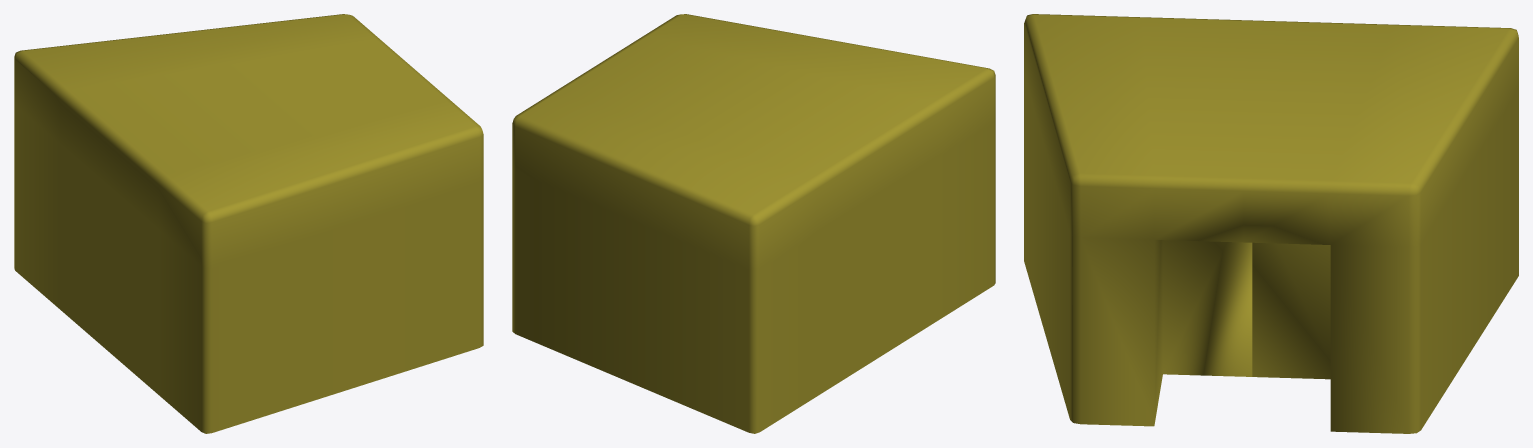
Rendered from SmallHouse_UV.fbx.
3 renders of one model, left to right at view 1: azimuth 30°, elevation 25°; view 2: azimuth 150°, elevation 25°; view 3: azimuth 270°, elevation 25°, orthographic. The views are drawn at different scales.
Visible parts, largest first — view 1: SmallHouseProp; view 2: SmallHouseProp; view 3: SmallHouseProp.
Boxes of the visible parts, x1,y1,x2,y2 form: SmallHouseProp: (14, 14, 483, 433); SmallHouseProp: (512, 14, 995, 433); SmallHouseProp: (1024, 14, 1518, 433).
Bounding box in the file's own units: 10.4 × 6.78 × 12.32.
